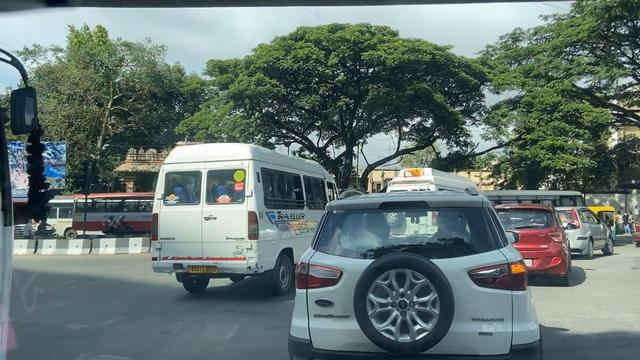HMV: (165, 146, 322, 295)
LMV: (315, 193, 544, 360), (502, 194, 570, 282)
